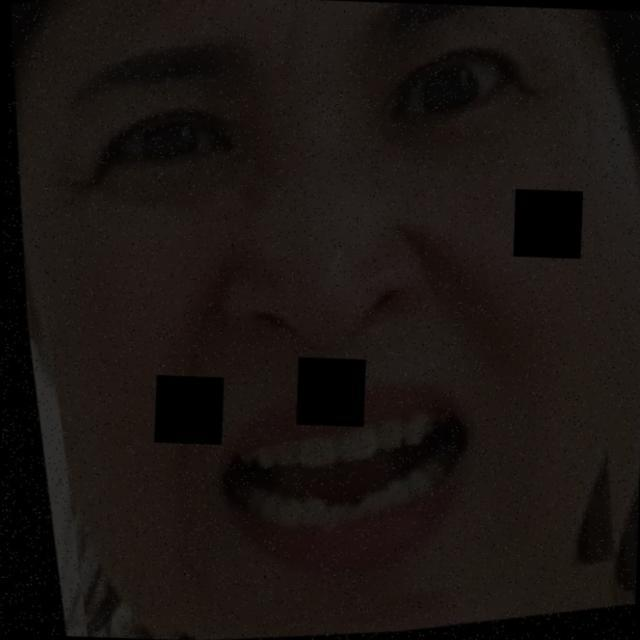Angry: (24, 7, 640, 639)
